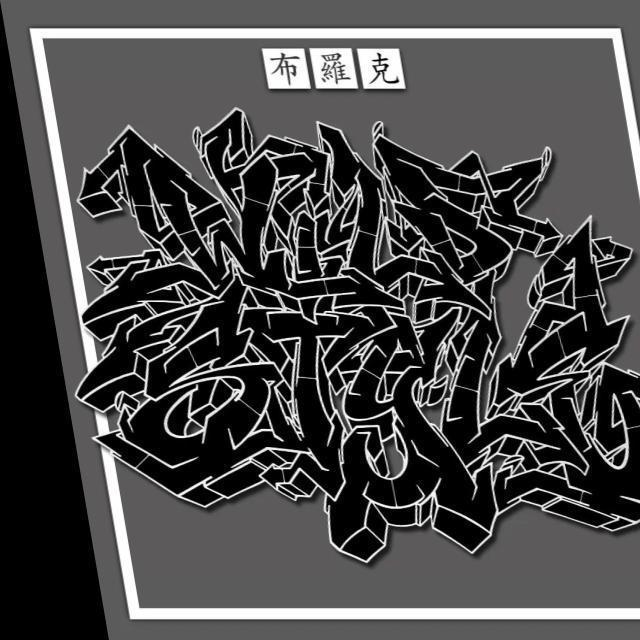nonspitting: (75, 111, 640, 571)
